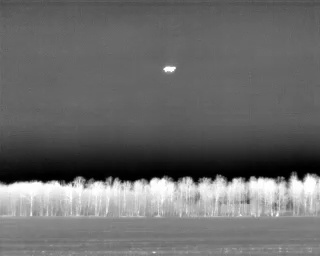DRONE: (160, 61, 180, 77)
